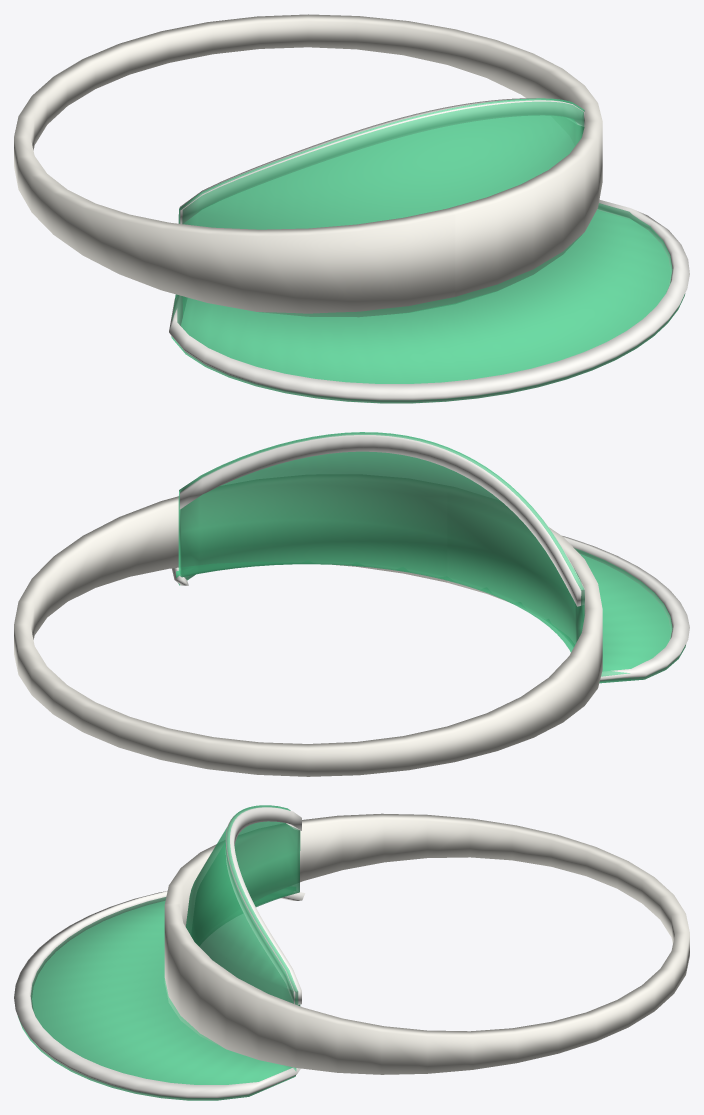
The model's file is dealer_visor.glb.
3 views of the same model, one above another, from view 1: azimuth 30°, elevation 25°; view 2: azimuth 150°, elevation 25°; view 3: azimuth 270°, elevation 25° (orthographic). The views are drawn at different scales.
Parts seen in each view (by area): view 1: Visor_Band, Visor_Brim, Visor_Fold, Visor_Trim, Visor_FoldTrim; view 2: Visor_Fold, Visor_Band, Visor_FoldTrim, Visor_Brim, Visor_Trim; view 3: Visor_Band, Visor_Brim, Visor_Fold, Visor_Trim, Visor_FoldTrim.
Boxes of the visible parts, left/top/right/bottom form: Visor_Band: left=14, top=14, right=602, bottom=316; Visor_Brim: left=171, top=203, right=685, bottom=403; Visor_Fold: left=178, top=98, right=584, bottom=229; Visor_Trim: left=169, top=199, right=689, bottom=403; Visor_FoldTrim: left=179, top=98, right=584, bottom=223; Visor_Fold: left=178, top=432, right=584, bottom=652; Visor_Band: left=14, top=496, right=602, bottom=776; Visor_FoldTrim: left=179, top=433, right=584, bottom=606; Visor_Brim: left=176, top=548, right=685, bottom=683; Visor_Trim: left=171, top=536, right=689, bottom=681; Visor_Band: left=164, top=813, right=689, bottom=1074; Visor_Brim: left=17, top=897, right=296, bottom=1100; Visor_Fold: left=186, top=805, right=300, bottom=1005; Visor_Trim: left=14, top=891, right=305, bottom=1100; Visor_FoldTrim: left=225, top=807, right=301, bottom=1004.
Size of the model in its own units: 0.25 by 0.0873 by 0.3218.
